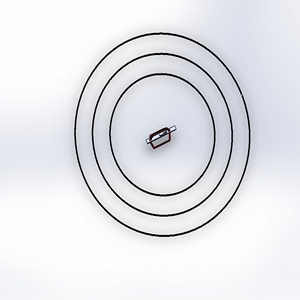circle: (62, 26, 258, 242)
submarine: (142, 116, 181, 157)
